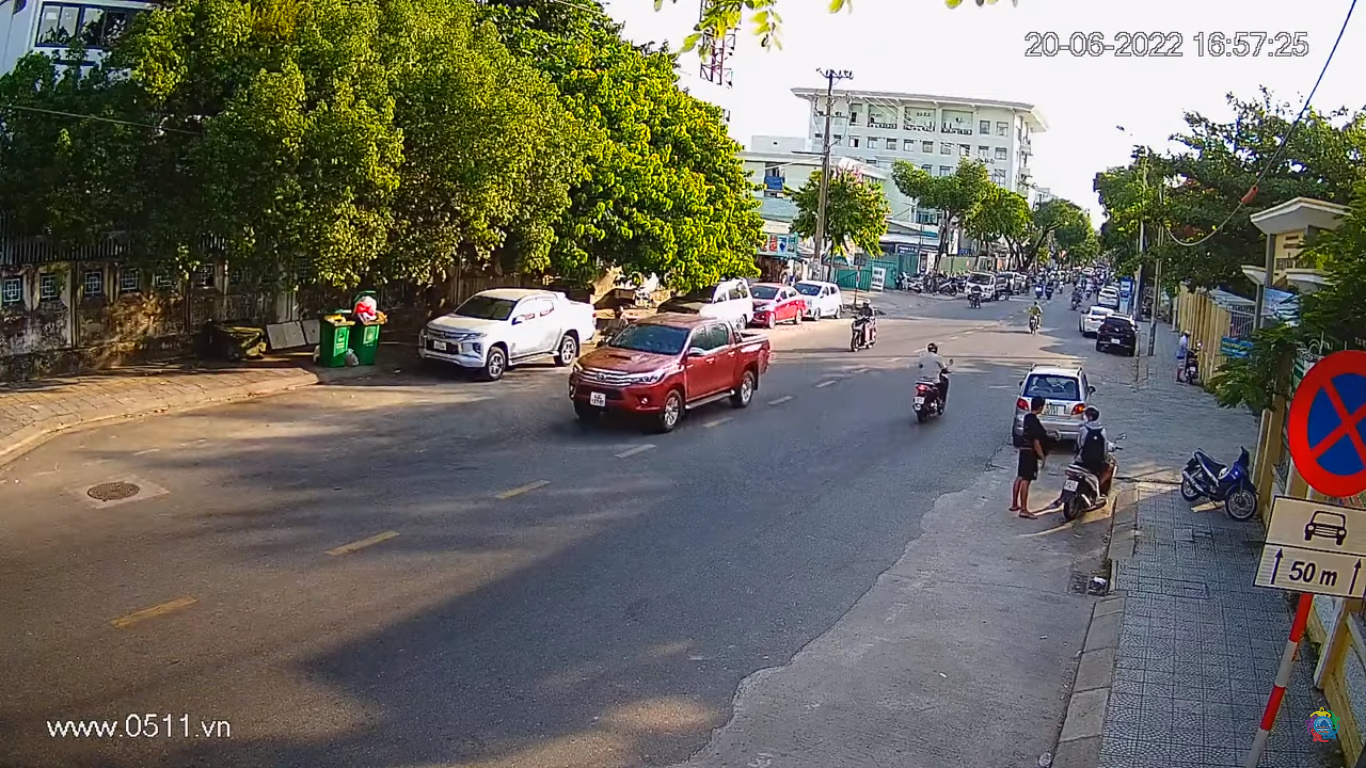car: (574, 309, 775, 443)
